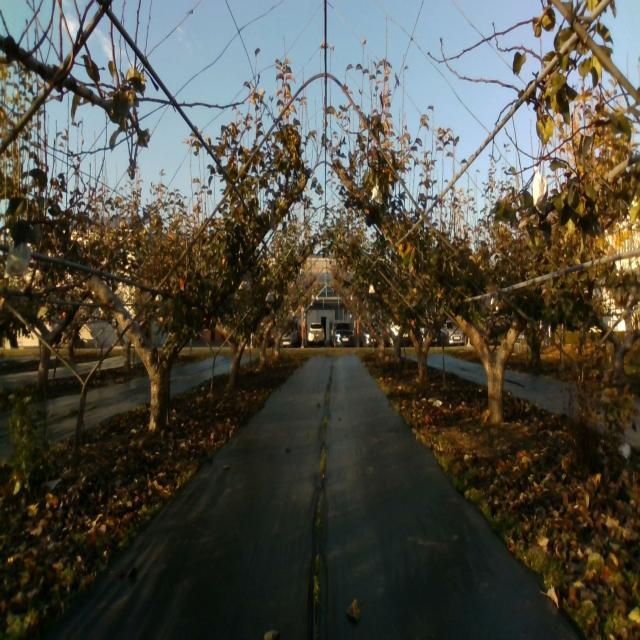pearbags: (7, 242, 31, 277), (533, 164, 548, 214), (372, 185, 383, 205)
